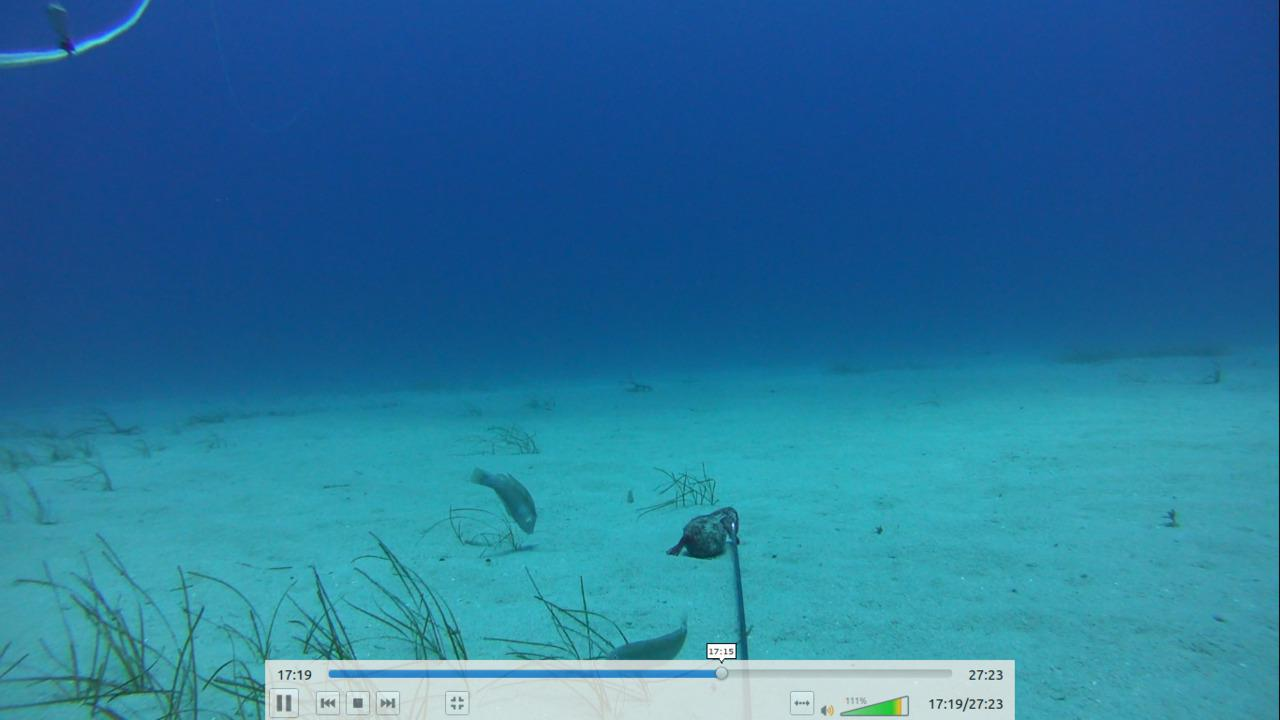raor: (463, 462, 546, 536), (595, 612, 695, 656)
